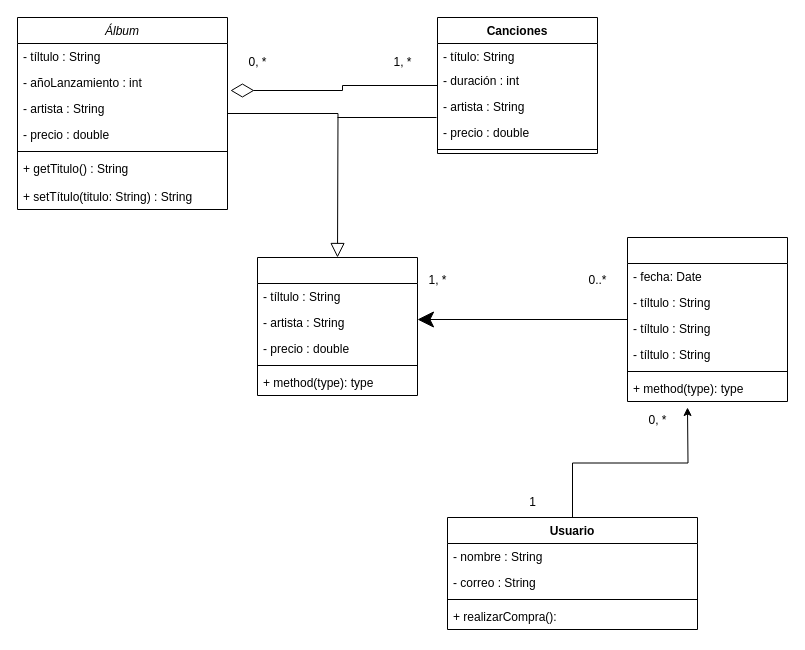
Image size: 805x650. Some labels were removed from this diagram. The box of each missing label's shape, as (x1, y1, x2, y2) in pixels:
<<Producto>>: (256, 256, 418, 396)
Compra: (626, 236, 788, 402)
